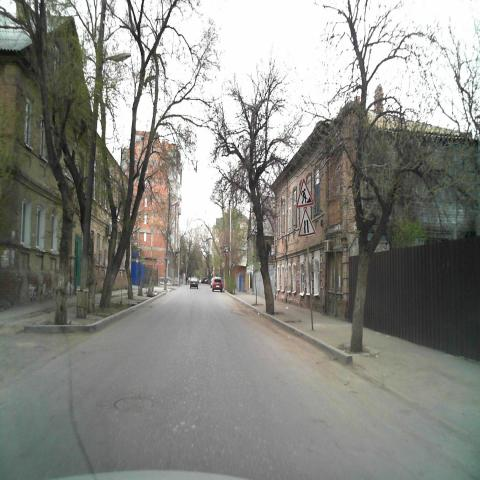1_20_3: (297, 207, 316, 237)
1_25: (296, 178, 314, 206)
